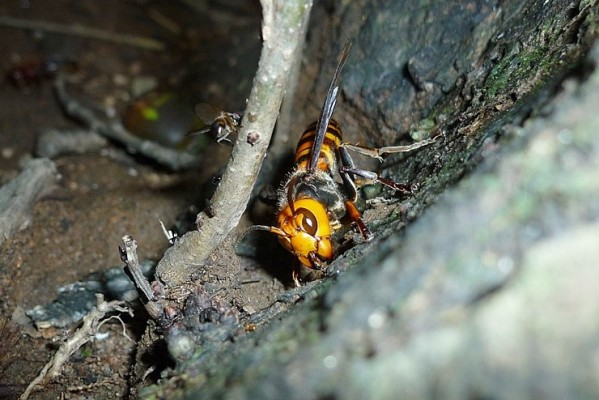asian_giant_hornet: (268, 116, 374, 286)
